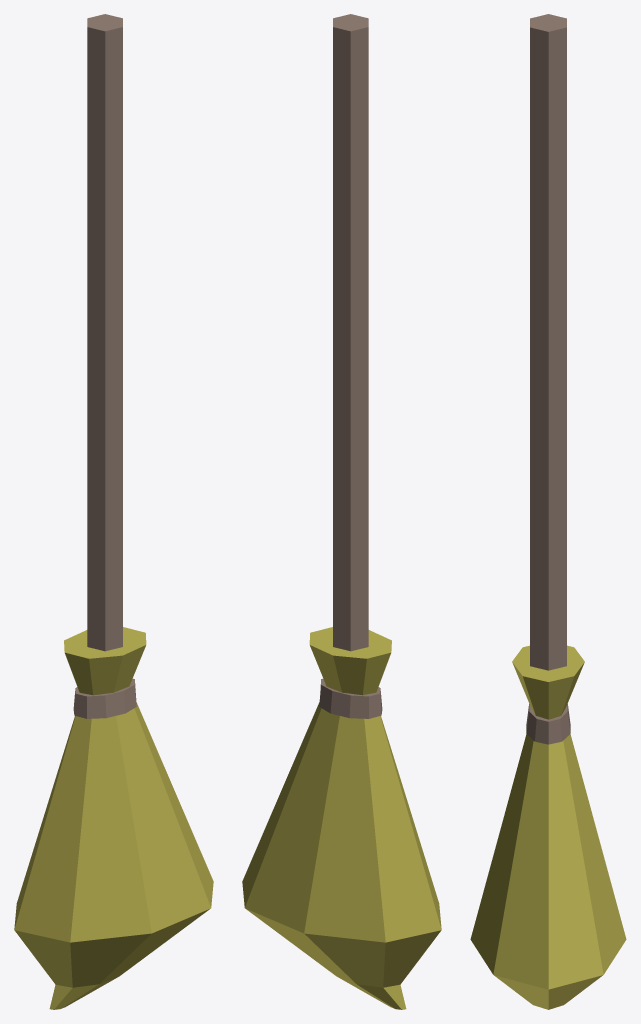
File: Vassoura.fbx
3 views of the same model, side by side, from view 1: azimuth 30°, elevation 25°; view 2: azimuth 150°, elevation 25°; view 3: azimuth 270°, elevation 25° (orthographic). The views are drawn at different scales.
Visible parts, largest first — view 1: pCylinder18, pCylinder17, pCylinder19; view 2: pCylinder18, pCylinder17, pCylinder19; view 3: pCylinder18, pCylinder17, pCylinder19.
Boxes of the visible parts, <box> form: pCylinder18: <box>14,627,213,1009</box>; pCylinder17: <box>87,14,122,651</box>; pCylinder19: <box>73,678,136,718</box>; pCylinder18: <box>242,627,441,1009</box>; pCylinder17: <box>333,14,368,651</box>; pCylinder19: <box>319,678,382,718</box>; pCylinder18: <box>470,645,626,1009</box>; pCylinder17: <box>530,14,566,670</box>; pCylinder19: <box>526,704,570,744</box>.
Size of the model in its own units: 0.2795 by 1.3 by 0.1839.
